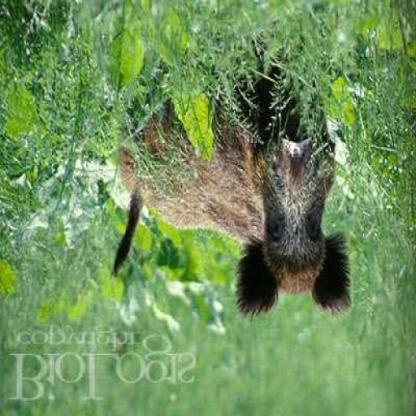boar: (96, 33, 394, 329)
